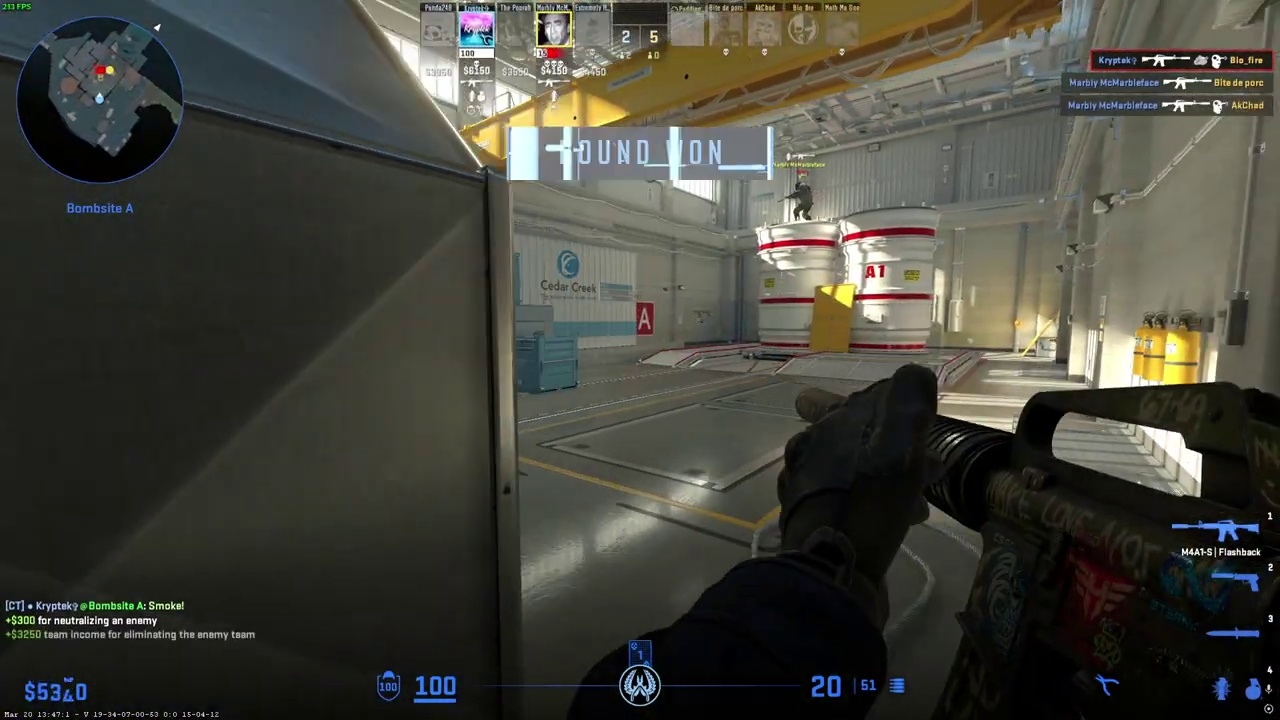CT: (791, 182, 813, 221)
